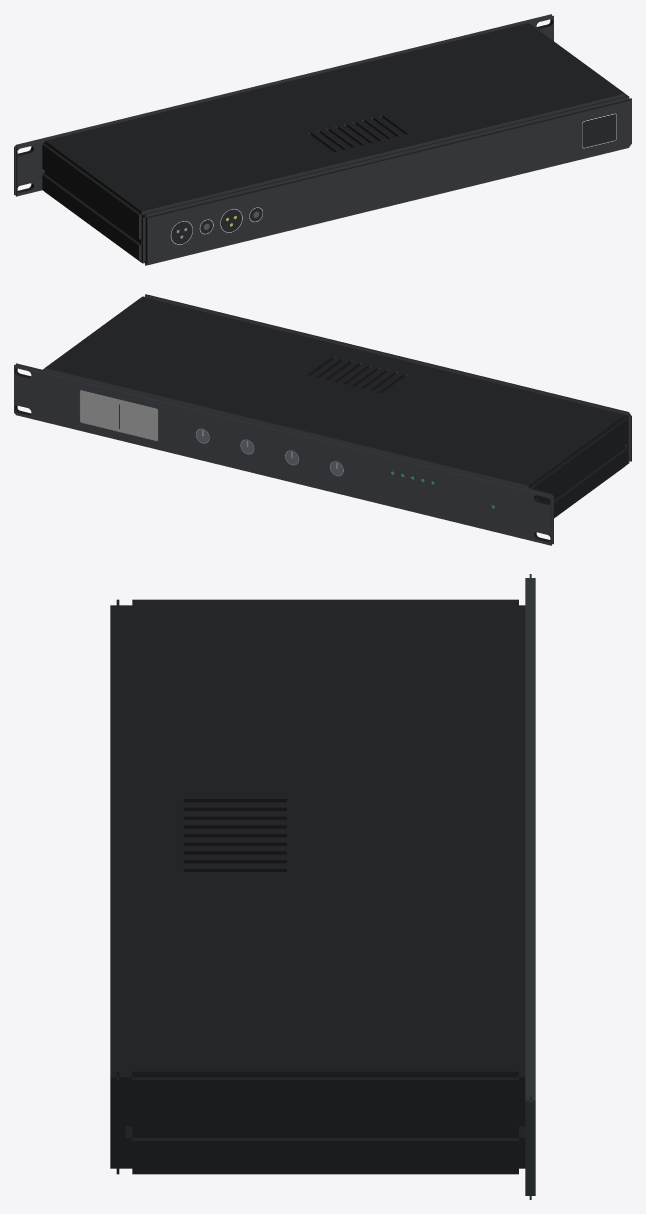
Rendered from dbx-160a.glb.
The picture shows the model from 3 angles, top to bottom: view 1: azimuth 30°, elevation 25°; view 2: azimuth 150°, elevation 25°; view 3: azimuth 270°, elevation 25°; orthographic projection. The views are drawn at different scales.
Visible parts, largest first — view 1: dbx-160a-body; view 2: dbx-160a-body; view 3: dbx-160a-body.
Boxes of the visible parts, x1,y1,x2,y2 form: dbx-160a-body: (14, 14, 631, 265); dbx-160a-body: (14, 294, 631, 545); dbx-160a-body: (110, 574, 535, 1199).
Size of the model in its own units: 0.483 by 0.044 by 0.165.
1 material, 1 textured.
